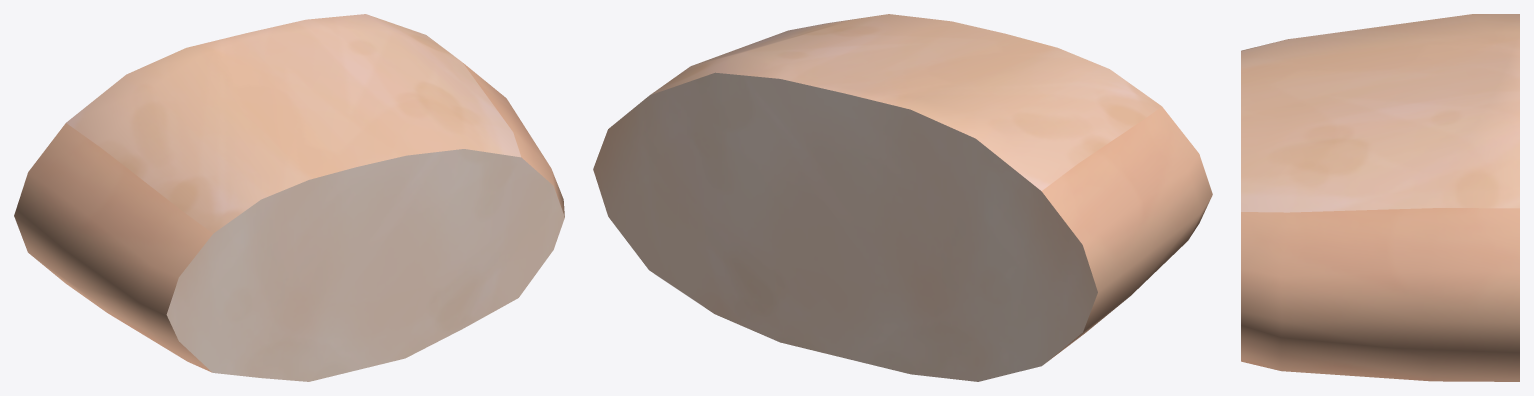
The model's file is chicken_breast_05.fbx.
The picture shows the model from 3 angles, left to right: view 1: azimuth 30°, elevation 25°; view 2: azimuth 150°, elevation 25°; view 3: azimuth 270°, elevation 25°; orthographic projection. The views are drawn at different scales.
Parts seen in each view (by area): view 1: chicken_breast_05; view 2: chicken_breast_05; view 3: chicken_breast_05.
Boxes of the visible parts, left/top/right/bottom form: chicken_breast_05: left=14, top=14, right=564, bottom=381; chicken_breast_05: left=593, top=14, right=1212, bottom=381; chicken_breast_05: left=1241, top=14, right=1519, bottom=381.
Bounding box in the file's own units: 6.38 × 3.2 × 3.07.
